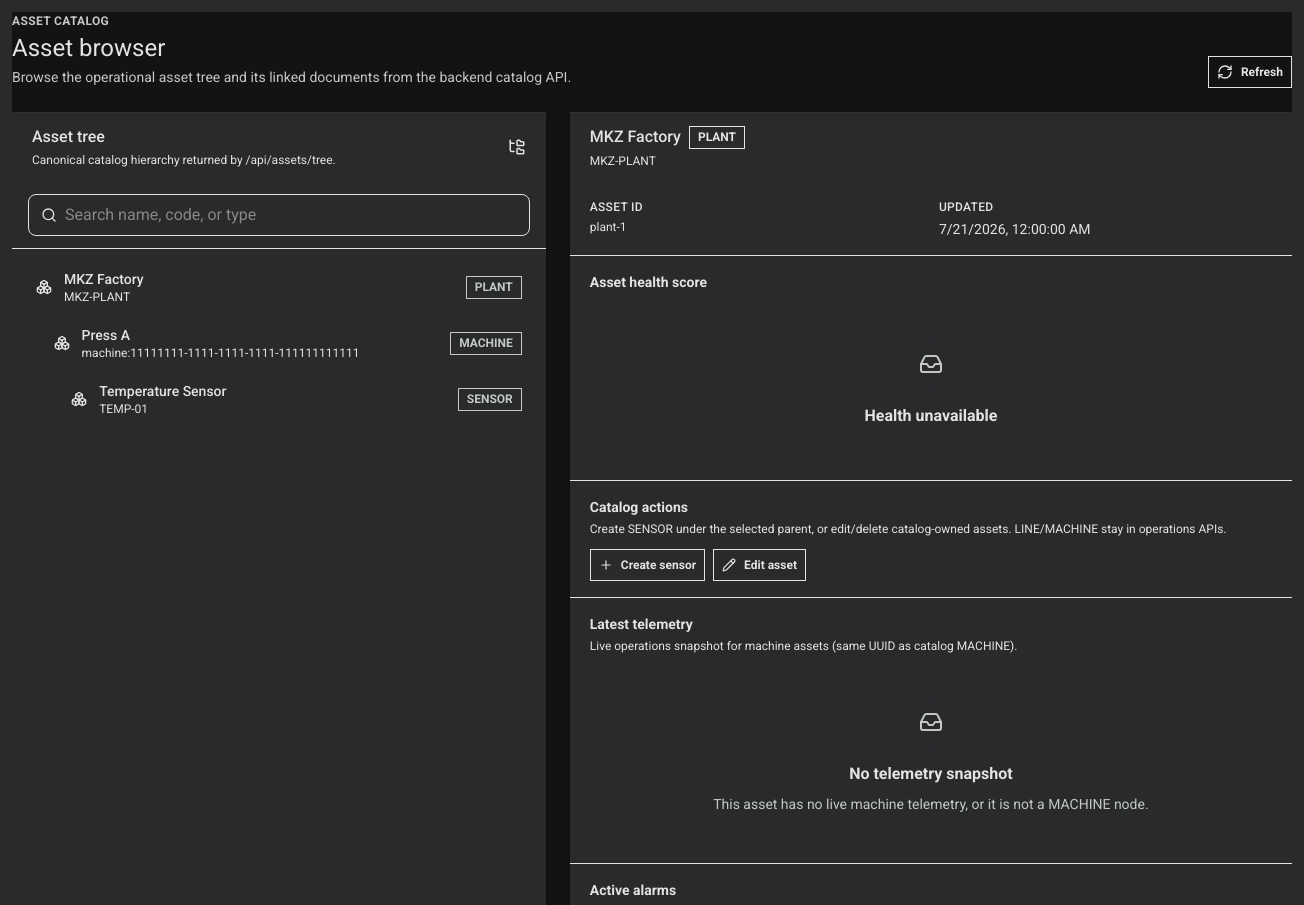
it: AssetBrowserPage › keeps asset details visible when health is unavailable
Click the button "Press A machine:11111111-1111-1111-1111-111111111111 MACHINE" at (279, 343), box [24, 317, 534, 369]
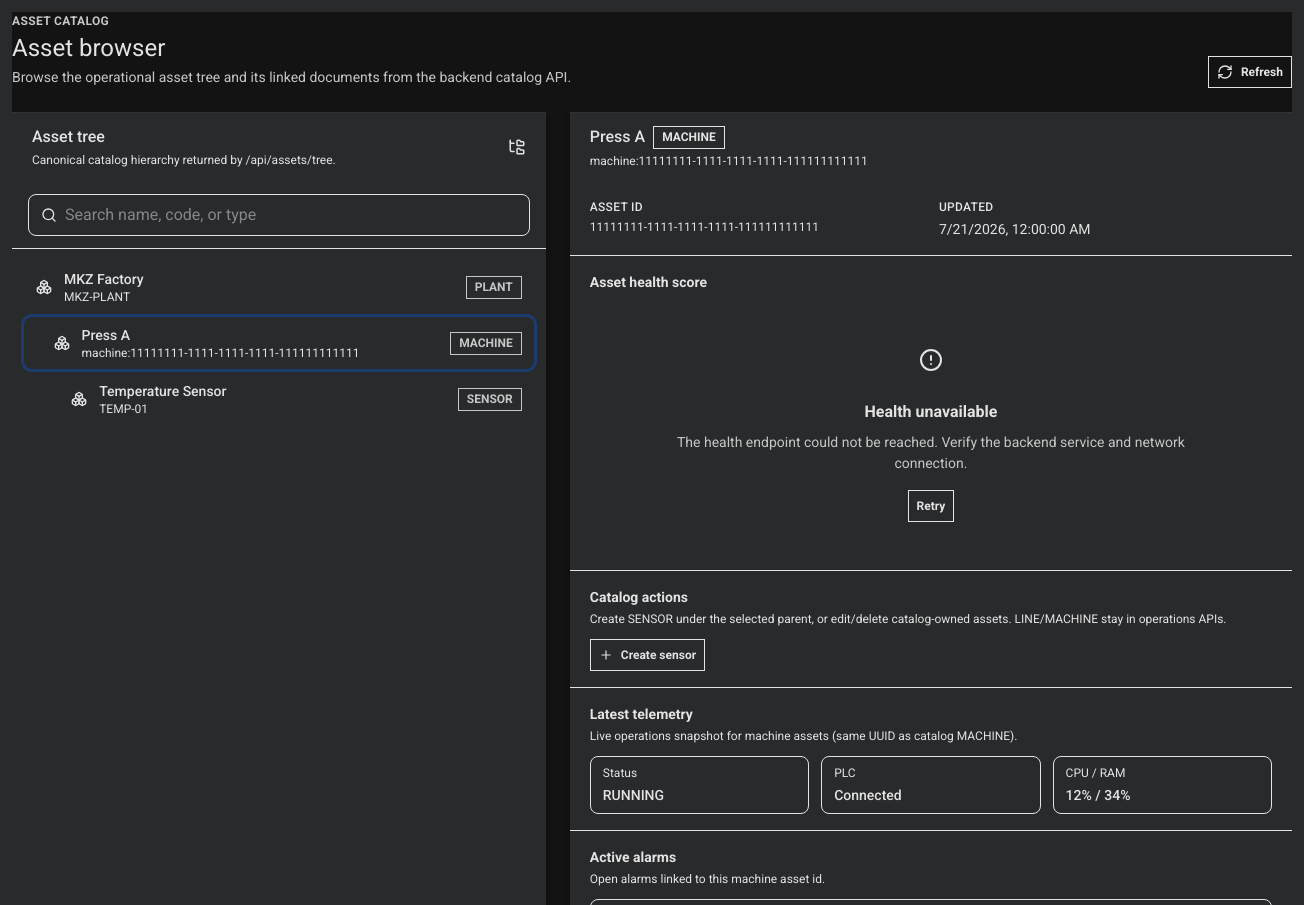
expect the heading "Health unavailable" is shown: met, box [864, 400, 997, 424]
expect the heading "Press A" is shown: met, box [590, 126, 645, 148]
expect the text "RUNNING" is shown: met, box [603, 787, 664, 803]
